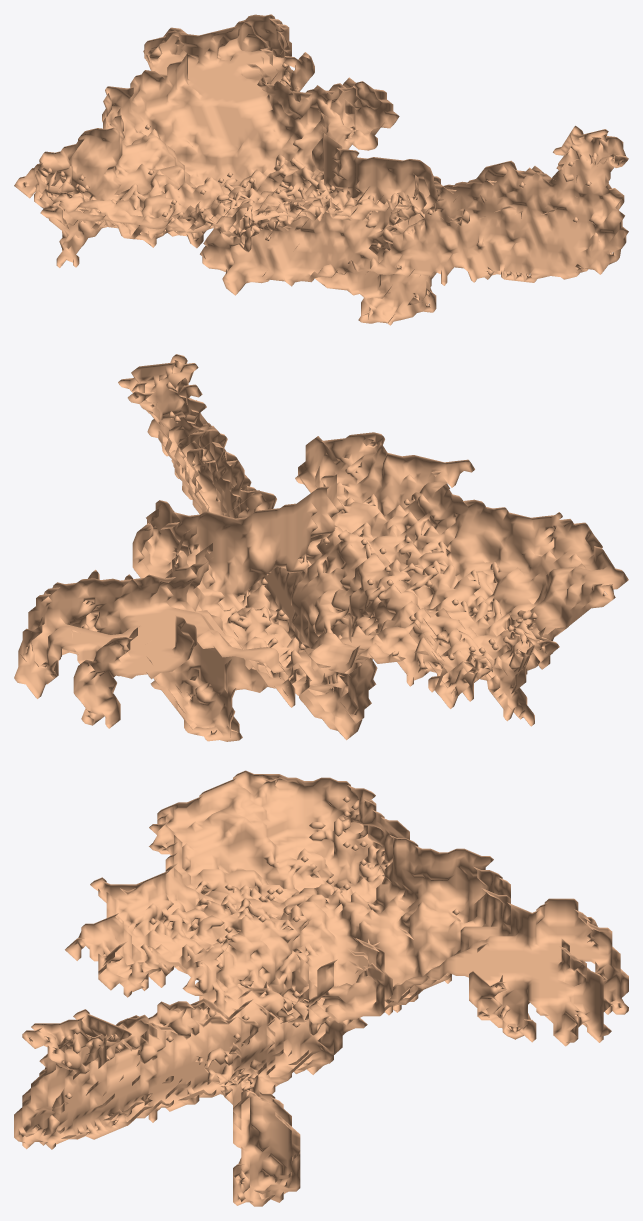
File: osteocyte_244.glb
3 views of the same model, one above another, from view 1: azimuth 30°, elevation 25°; view 2: azimuth 150°, elevation 25°; view 3: azimuth 270°, elevation 25° (orthographic). The views are drawn at different scales.
Parts seen in each view (by area): view 1: osteocyte_244; view 2: osteocyte_244; view 3: osteocyte_244.
Part boxes in pixels (bbox=[...]): osteocyte_244: bbox=[14, 14, 628, 325]; osteocyte_244: bbox=[14, 354, 628, 741]; osteocyte_244: bbox=[14, 770, 628, 1206].
Size of the model in its own units: 37.07 by 15.41 by 35.15.
